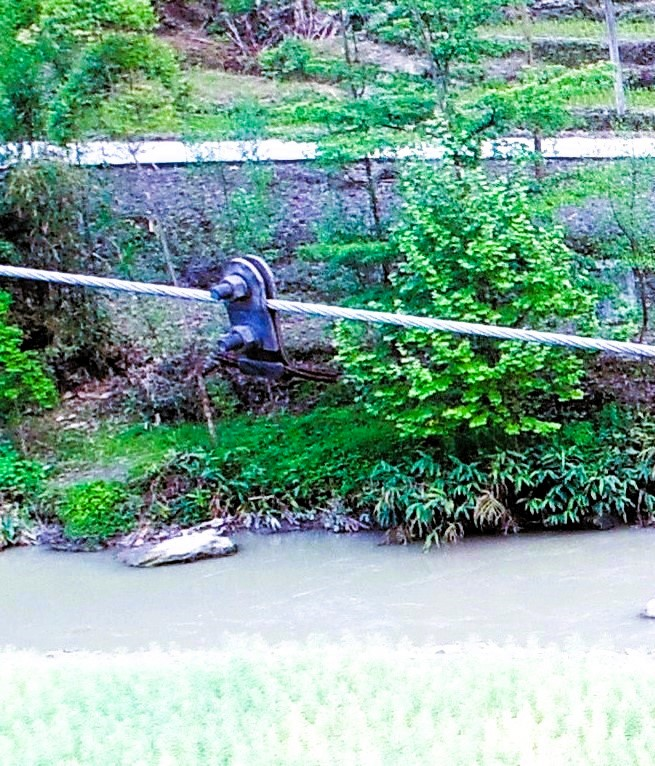Damage of shockproof hammer: (197, 250, 354, 391)
